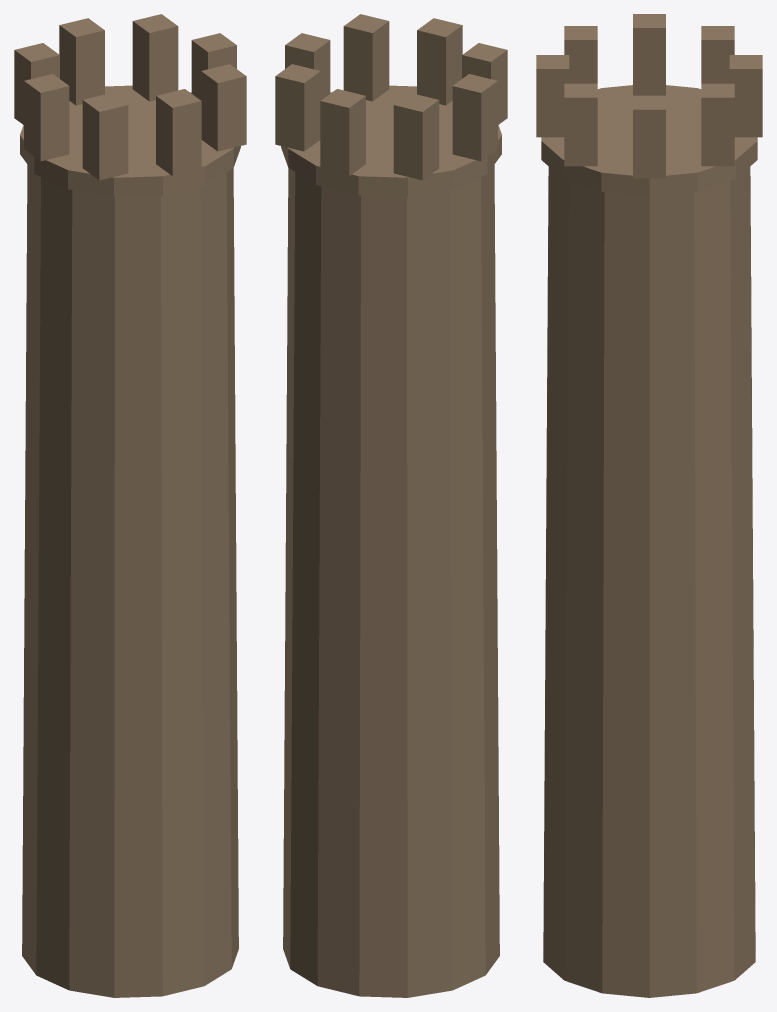
The model's file is bastion_timber.glb.
The picture shows the model from 3 angles, left to right: view 1: azimuth 30°, elevation 25°; view 2: azimuth 150°, elevation 25°; view 3: azimuth 270°, elevation 25°; orthographic projection.
Visible parts, largest first — view 1: bastion_timber; view 2: bastion_timber; view 3: bastion_timber.
Boxes of the visible parts, x1,y1,x2,y2 form: bastion_timber: (14, 14, 246, 997); bastion_timber: (275, 14, 507, 997); bastion_timber: (536, 14, 762, 997).
Size of the model in its own units: 1.5 by 6.5 by 1.5.
